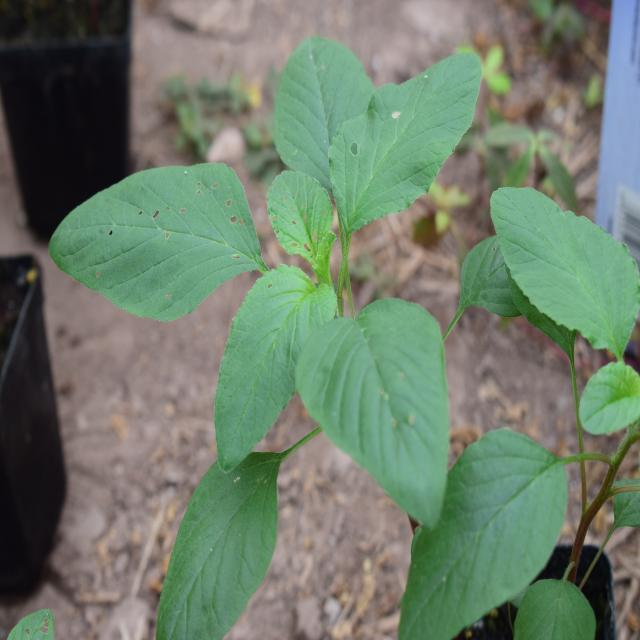pigweed: (67, 36, 496, 535)
